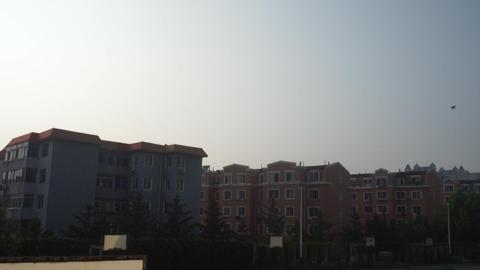UAV: (450, 105, 457, 110)
